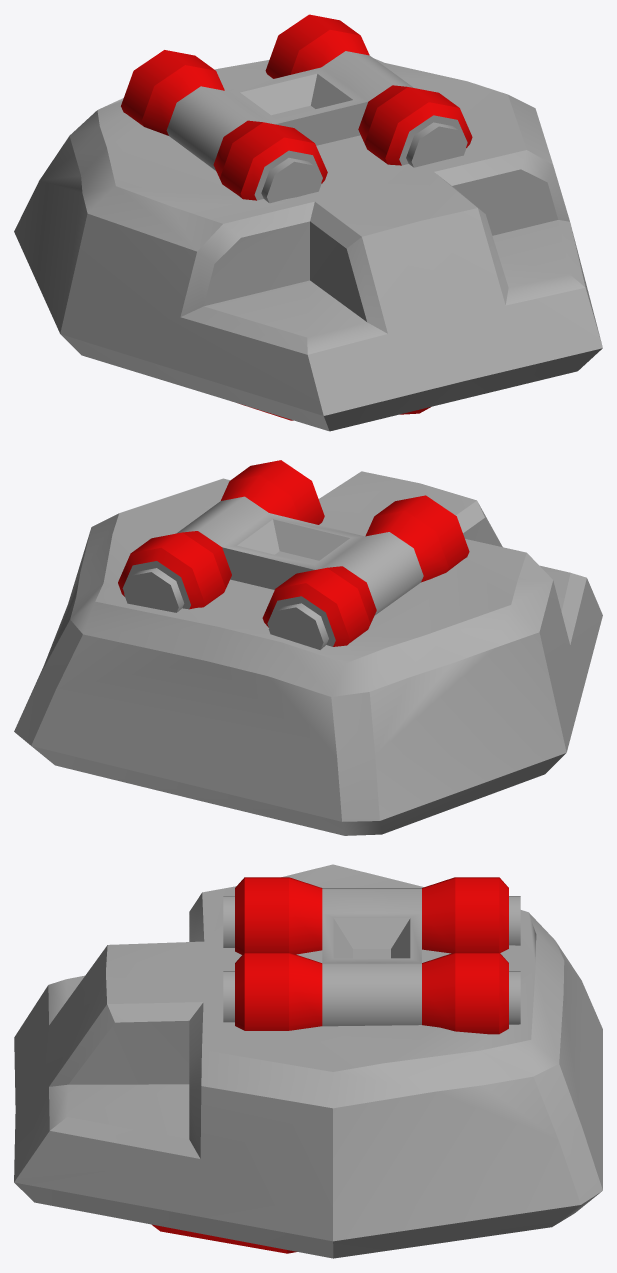
File: Enemy_TurretBody.fbx
3 views of the same model, one above another, from view 1: azimuth 30°, elevation 25°; view 2: azimuth 150°, elevation 25°; view 3: azimuth 270°, elevation 25° (orthographic). The views are drawn at different scales.
Visible parts, largest first — view 1: Enemy_Turret_Double_Body; view 2: Enemy_Turret_Double_Body; view 3: Enemy_Turret_Double_Body.
Boxes of the visible parts, bbox=[...] form: Enemy_Turret_Double_Body: bbox=[14, 14, 602, 431]; Enemy_Turret_Double_Body: bbox=[14, 460, 602, 835]; Enemy_Turret_Double_Body: bbox=[14, 864, 602, 1258].
Bounding box in the file's own units: 4.97 × 2.31 × 4.71.
